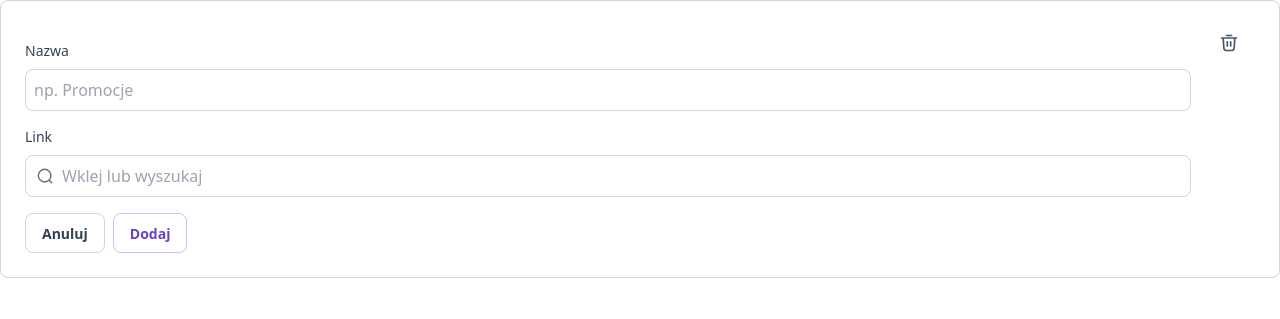
Test: Form Component › shows validation error when label is empty
Step 1. Click the button "Dodaj" → (150, 233), box 113,213 -> 187,253
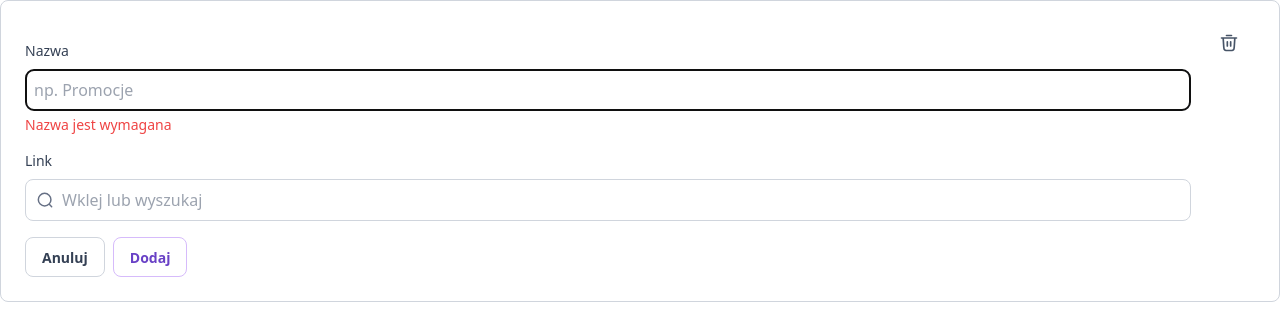
Result: the text "Nazwa jest wymagana" is shown at 25,115 -> 172,134
